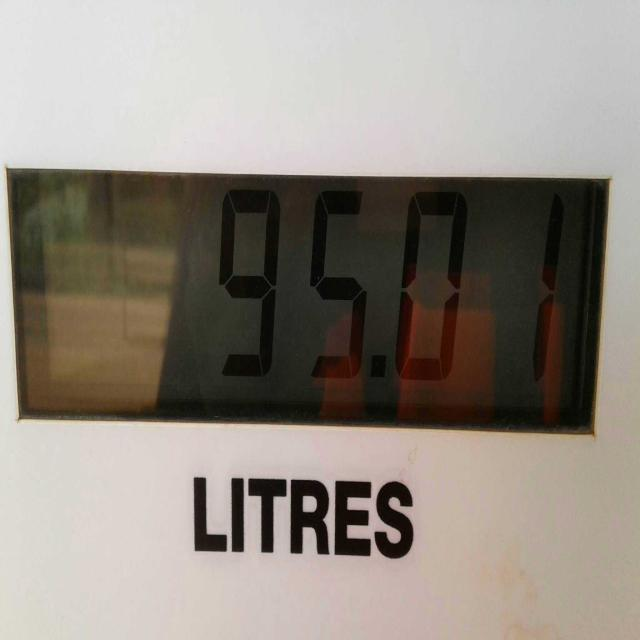.: (365, 325, 396, 409)
0: (388, 170, 480, 417)
1: (510, 166, 582, 404)
5: (301, 184, 379, 398)
9: (211, 174, 292, 396)
